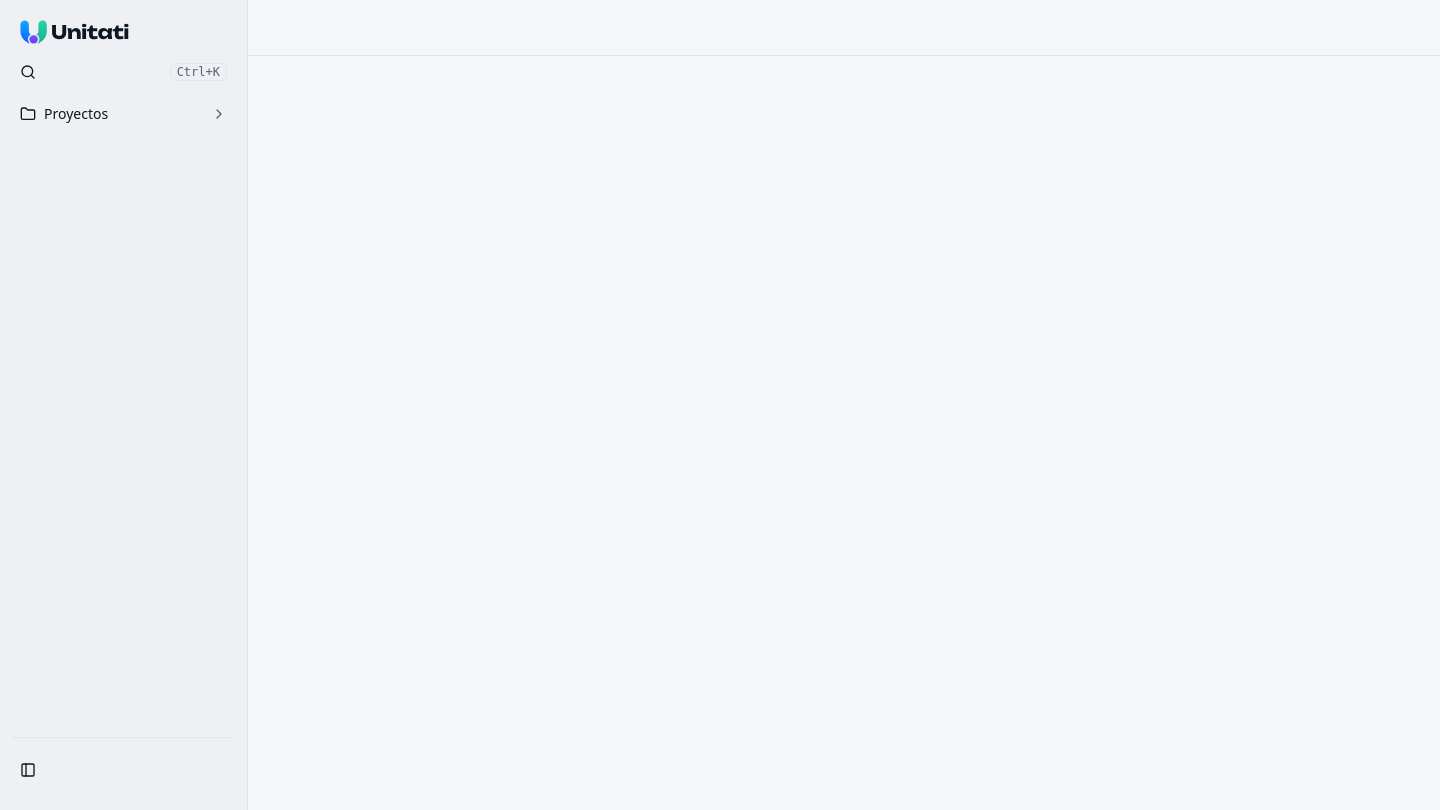
Scenario: AppShell navigation groups › toggles with a click, flips aria-expanded and never navigates
The width and height of the screenshot is (1440, 810).
Click the button "Proyectos": {"x": 124, "y": 114} x1=12 y1=94 x2=235 y2=134
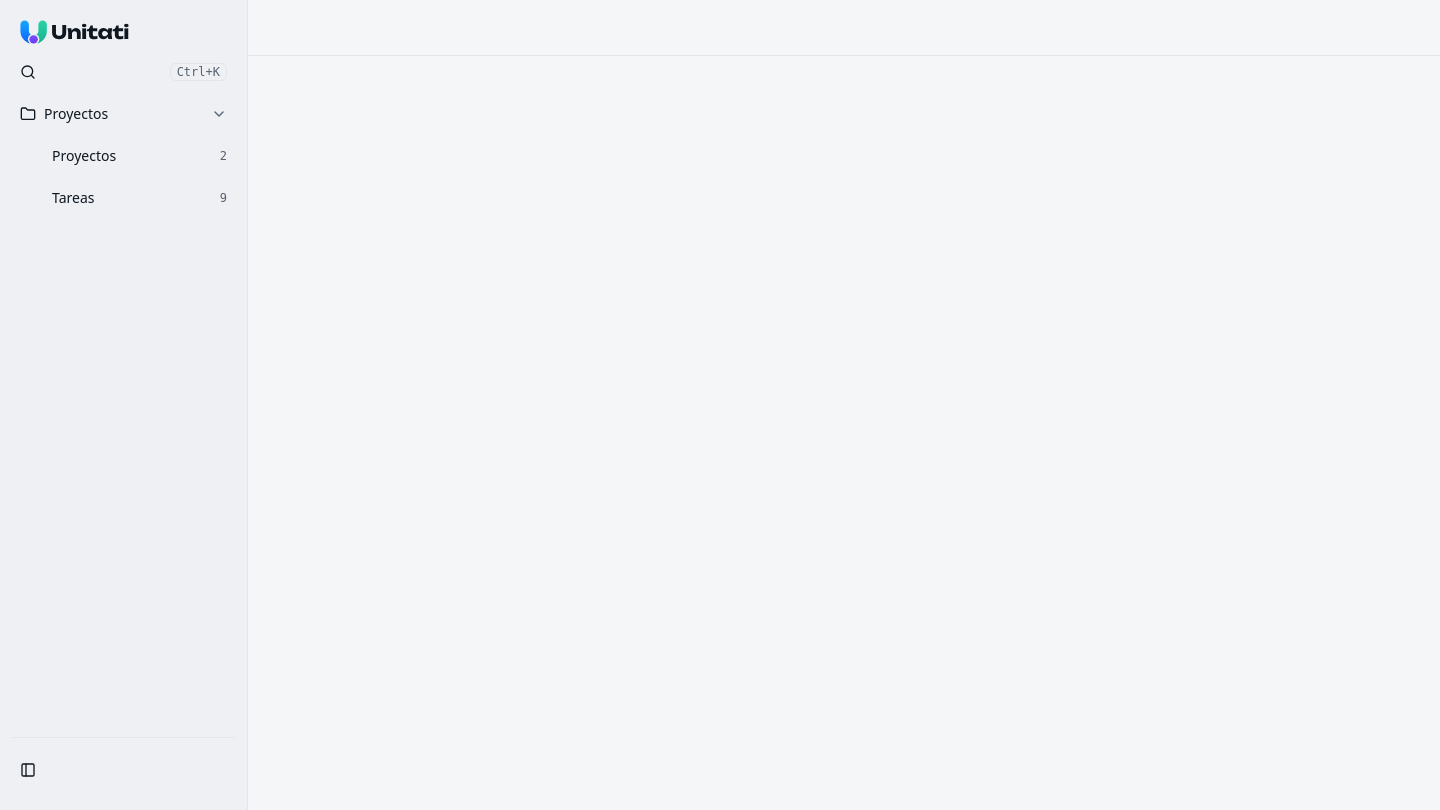
Now the button "Proyectos" is expanded
Click the button "Proyectos": {"x": 124, "y": 114} x1=12 y1=94 x2=235 y2=134
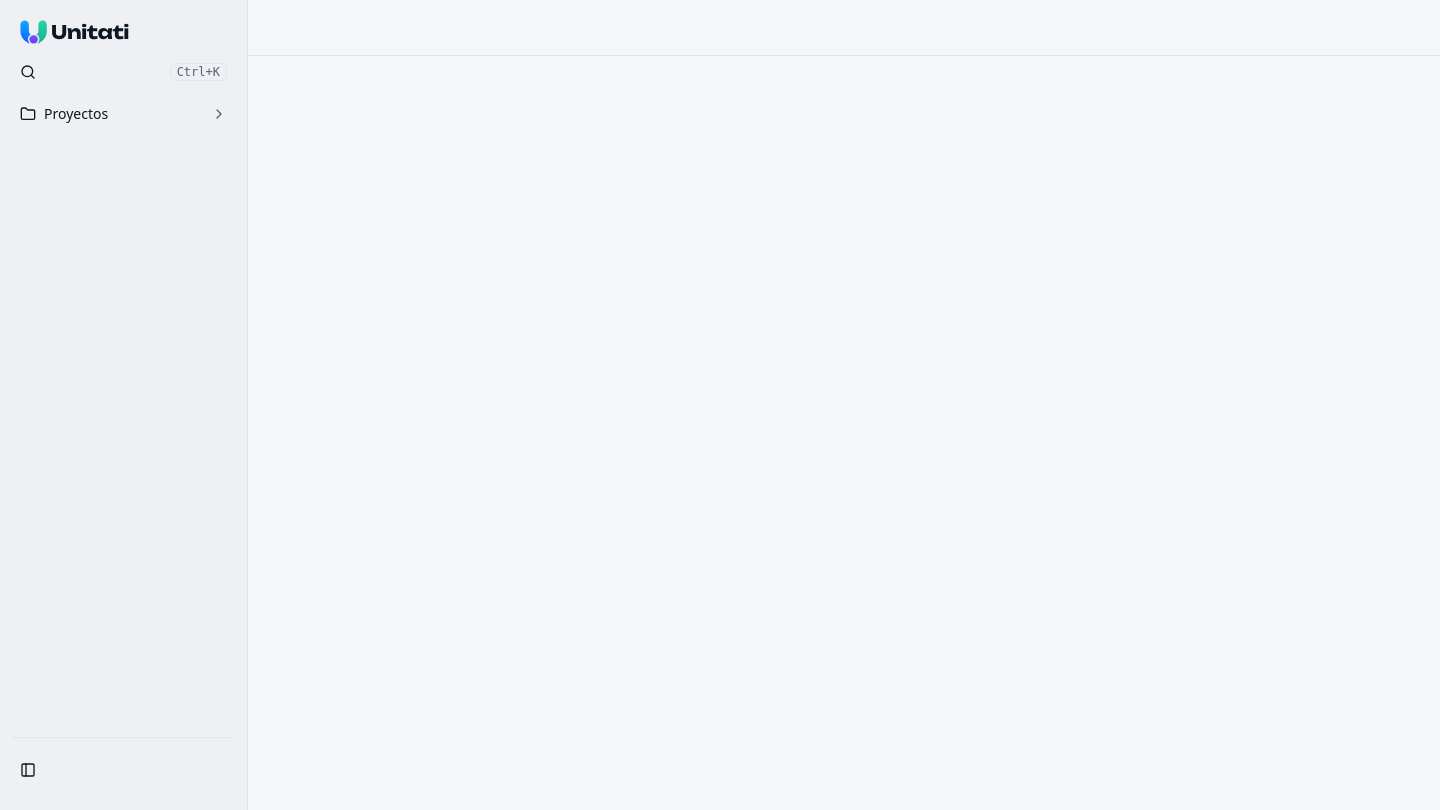
Now the button "Proyectos" is collapsed, box x1=12 y1=94 x2=235 y2=134
